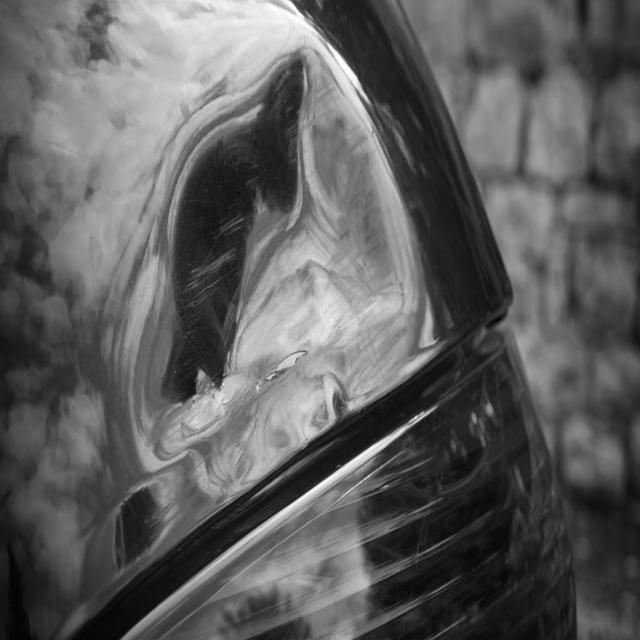dent: (125, 38, 435, 520)
scratch: (138, 73, 418, 545)
